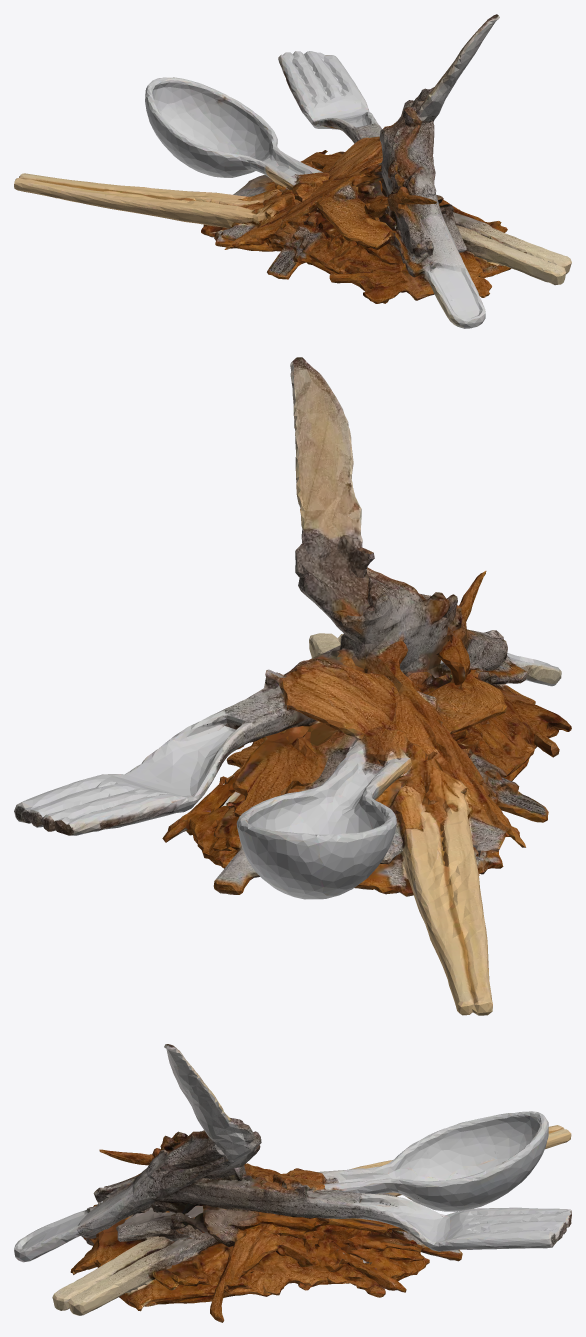
Rendered from tail (250).glb.
The picture shows the model from 3 angles, top to bottom: view 1: azimuth 30°, elevation 25°; view 2: azimuth 150°, elevation 25°; view 3: azimuth 270°, elevation 25°; orthographic projection. The views are drawn at different scales.
Visible parts, largest first — view 1: Hy21_Mesh.obj; view 2: Hy21_Mesh.obj; view 3: Hy21_Mesh.obj.
Part boxes in pixels (left/top/right/bottom): Hy21_Mesh.obj: left=14, top=14, right=571, bottom=328; Hy21_Mesh.obj: left=14, top=357, right=571, bottom=1015; Hy21_Mesh.obj: left=14, top=1044, right=571, bottom=1322.
Bounding box in the file's own units: 1.5 × 1.04 × 1.96.
1 material, 1 textured.
